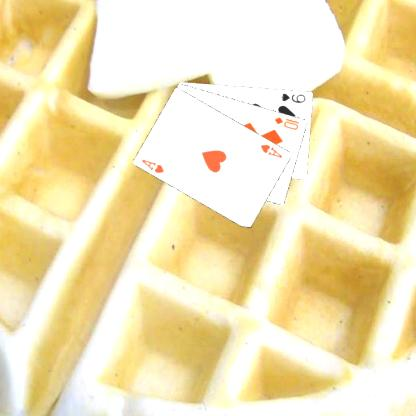10D: (272, 114, 301, 131)
9S: (278, 91, 307, 104)
AH: (139, 156, 166, 175), (258, 141, 284, 159)
